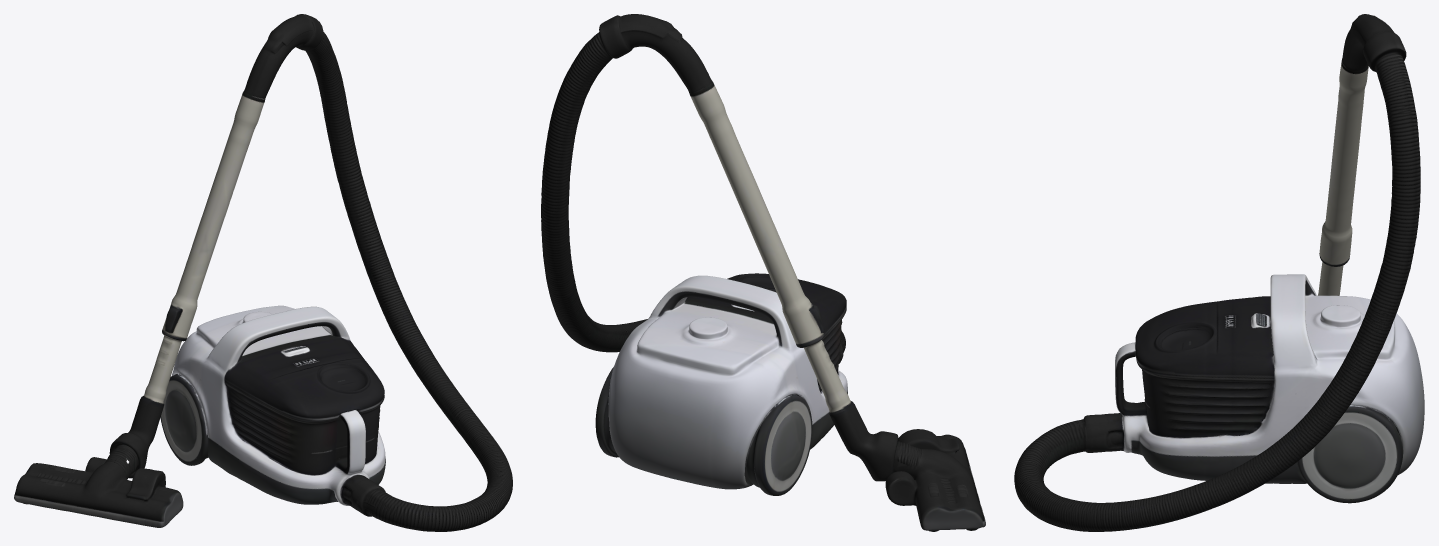
The model's file is tyaga808.glb.
3 renders of one model, left to right at view 1: azimuth 30°, elevation 25°; view 2: azimuth 150°, elevation 25°; view 3: azimuth 270°, elevation 25°, orthographic. The views are drawn at different scales.
Parts seen in each view (by area): view 1: tripo_node_392c5173; view 2: tripo_node_392c5173; view 3: tripo_node_392c5173.
Boxes of the visible parts, x1,y1,x2,y2 form: tripo_node_392c5173: (14,14,512,531); tripo_node_392c5173: (541,14,985,531); tripo_node_392c5173: (1014,14,1424,531).
Bounding box in the file's own units: 97.76 × 94.61 × 75.09.
1 material, 1 textured.
